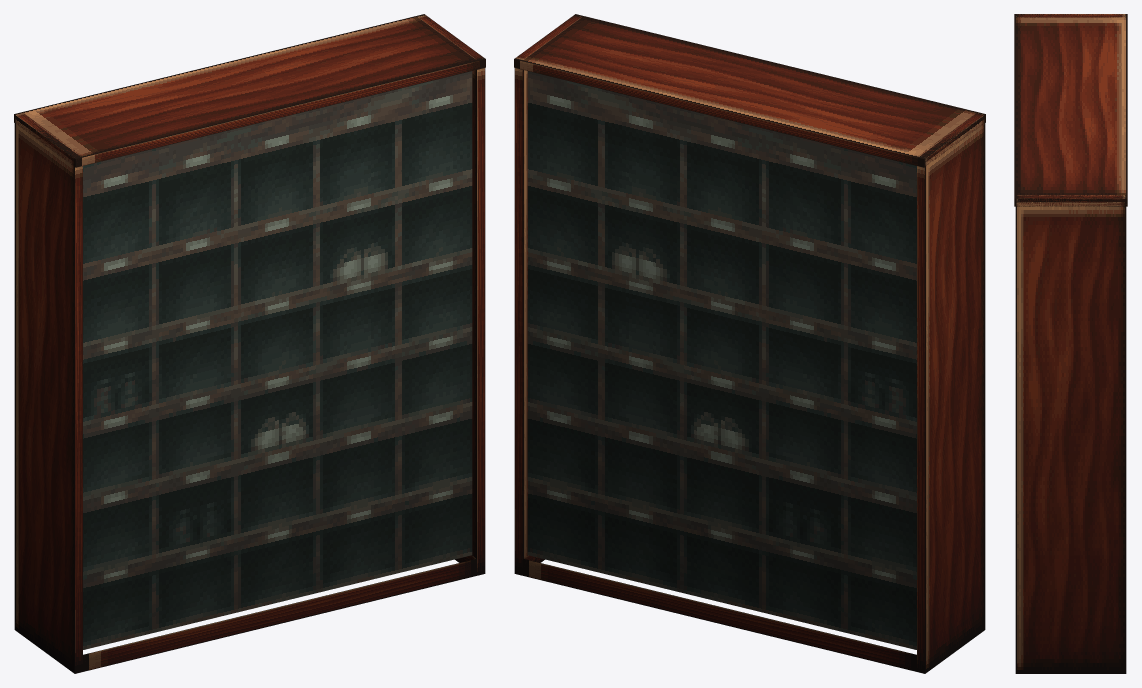
The model's file is prop_shoe_locker-0.glb.
3 views of the same model, side by side, from view 1: azimuth 30°, elevation 25°; view 2: azimuth 150°, elevation 25°; view 3: azimuth 270°, elevation 25° (orthographic). The views are drawn at different scales.
Visible parts, largest first — view 1: prop_shoe_locker-0; view 2: prop_shoe_locker-0; view 3: prop_shoe_locker-0.
Part boxes in pixels (<box>): prop_shoe_locker-0: <box>14,14,485,673</box>; prop_shoe_locker-0: <box>514,14,985,673</box>; prop_shoe_locker-0: <box>1014,14,1127,673</box>.
Size of the model in its own units: 1.5 by 1.8 by 0.39.
Materials: 2 (2 with a texture image).
